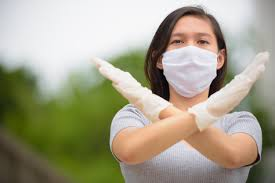with-mask: (150, 8, 233, 103)
